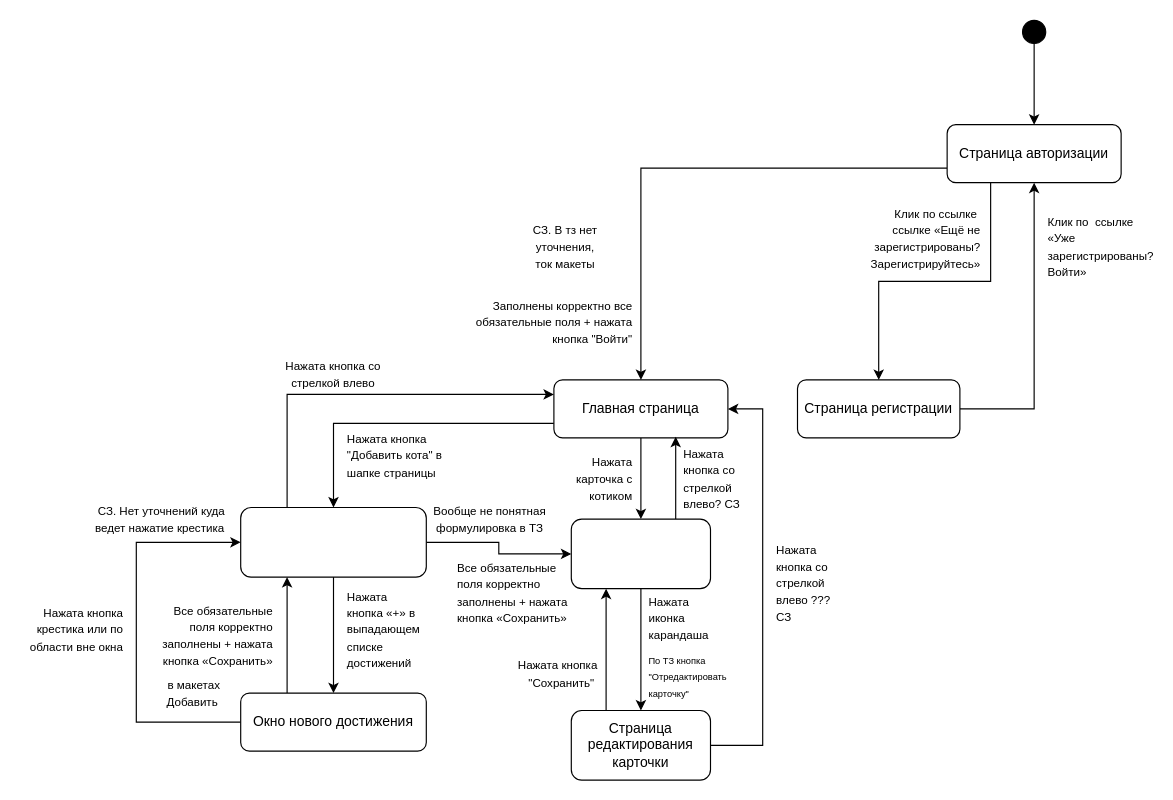
Image size: 1173x800. Some labels were removed from this diagram. Each missing label, with the box of its shape:
Страница деталей карточки: (570, 518, 710, 589)
Страница создания карточки: (240, 506, 426, 577)
